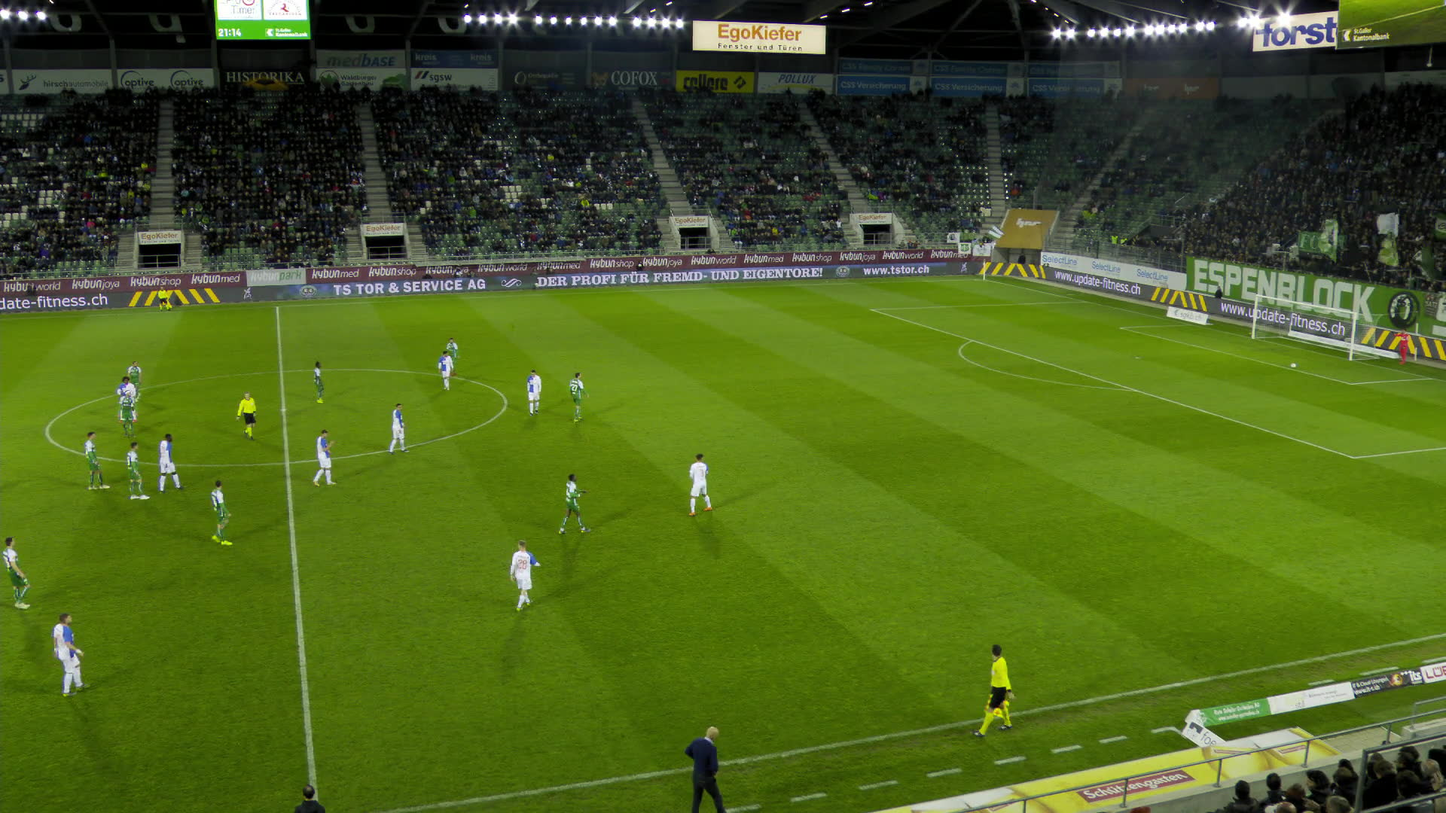ball: (1290, 362, 1296, 368)
player: (50, 612, 92, 696), (504, 539, 541, 610), (2, 537, 36, 611), (209, 480, 239, 545), (560, 472, 587, 533), (315, 428, 340, 486), (84, 431, 108, 490), (157, 432, 179, 493), (127, 442, 149, 500), (690, 452, 710, 515), (569, 372, 589, 422), (116, 376, 137, 422), (389, 402, 407, 453), (118, 389, 136, 438), (312, 361, 330, 403), (526, 369, 541, 416), (438, 350, 454, 389), (445, 337, 461, 376), (1393, 327, 1409, 364), (127, 361, 142, 400)
referee: (981, 643, 1017, 738), (238, 391, 258, 440), (158, 285, 172, 311)
